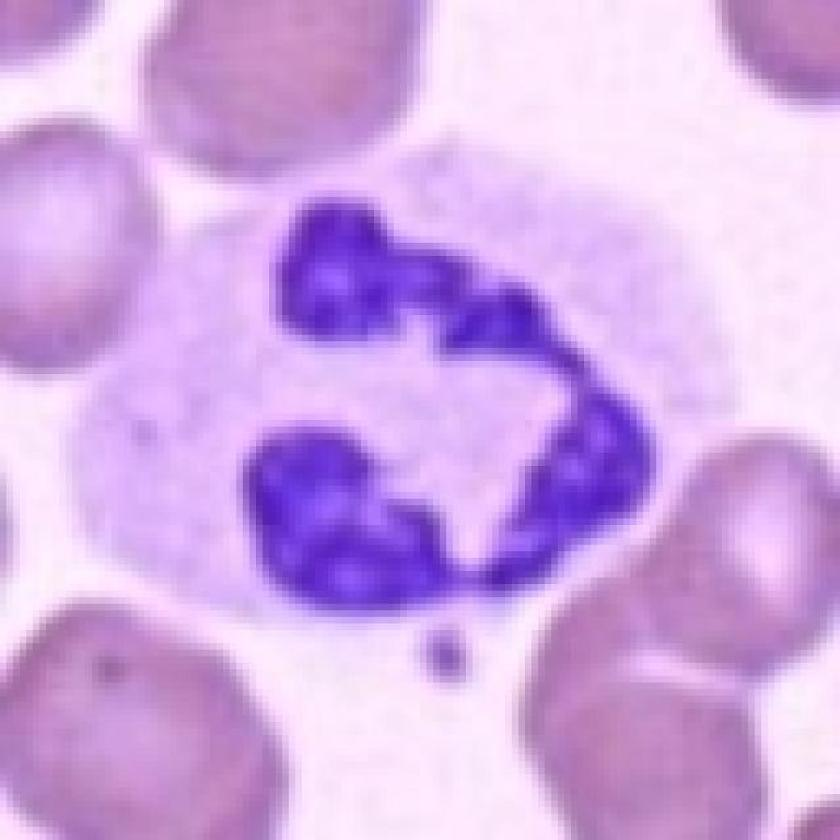neutrophil: (138, 196, 703, 660)
